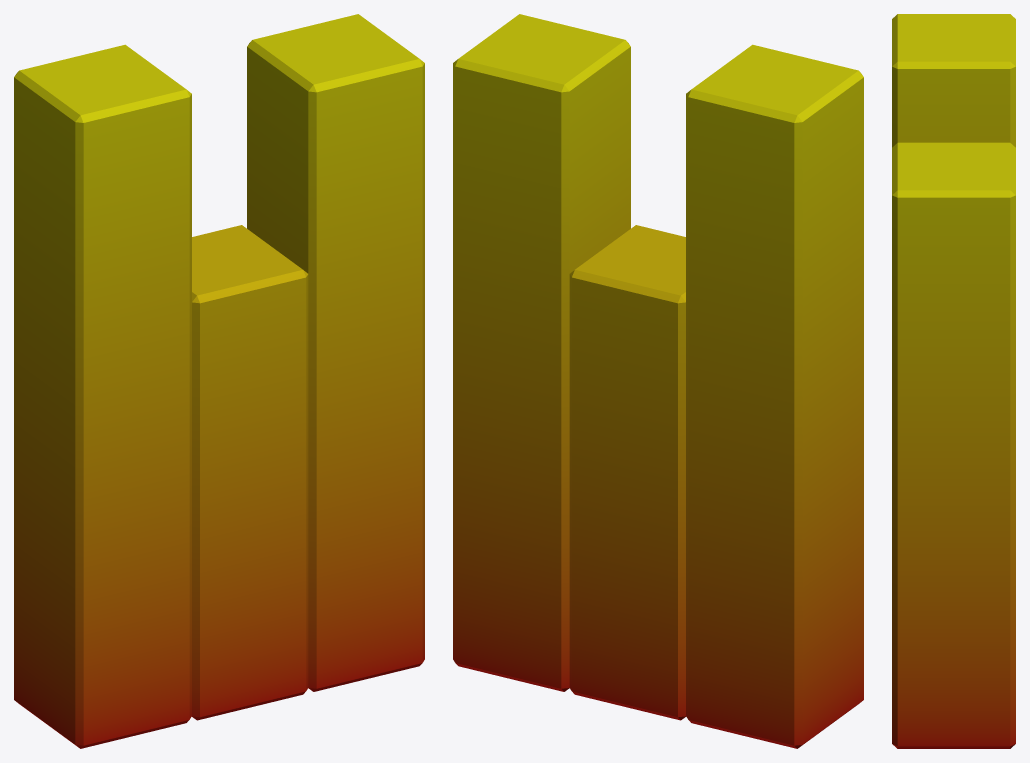
The model's file is stele_broken.glb.
3 renders of one model, left to right at view 1: azimuth 30°, elevation 25°; view 2: azimuth 150°, elevation 25°; view 3: azimuth 270°, elevation 25°, orthographic. The views are drawn at different scales.
Visible parts, largest first — view 1: stele_broken; view 2: stele_broken; view 3: stele_broken.
Boxes of the visible parts, x1,y1,x2,y2 form: stele_broken: (14,14,424,748); stele_broken: (453,14,863,748); stele_broken: (892,14,1015,748).
Size of what is drawn, in the model's own units: 1.2 by 2.08 by 0.4.
